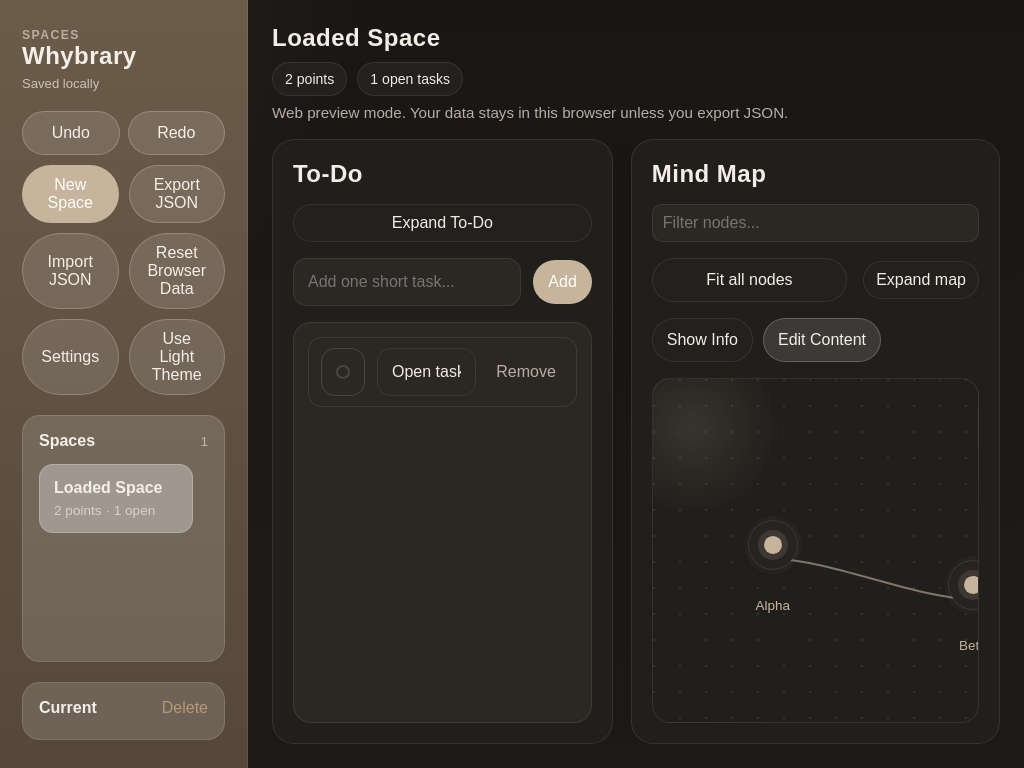
Scenario: App integration › undoes and redoes workspace changes
The width and height of the screenshot is (1024, 768).
Check: the heading "Loaded Space" is shown, box x1=272 y1=24 x2=440 y2=51
Click the button "New Space".
click(70, 194)  # box x1=22 y1=165 x2=118 y2=223
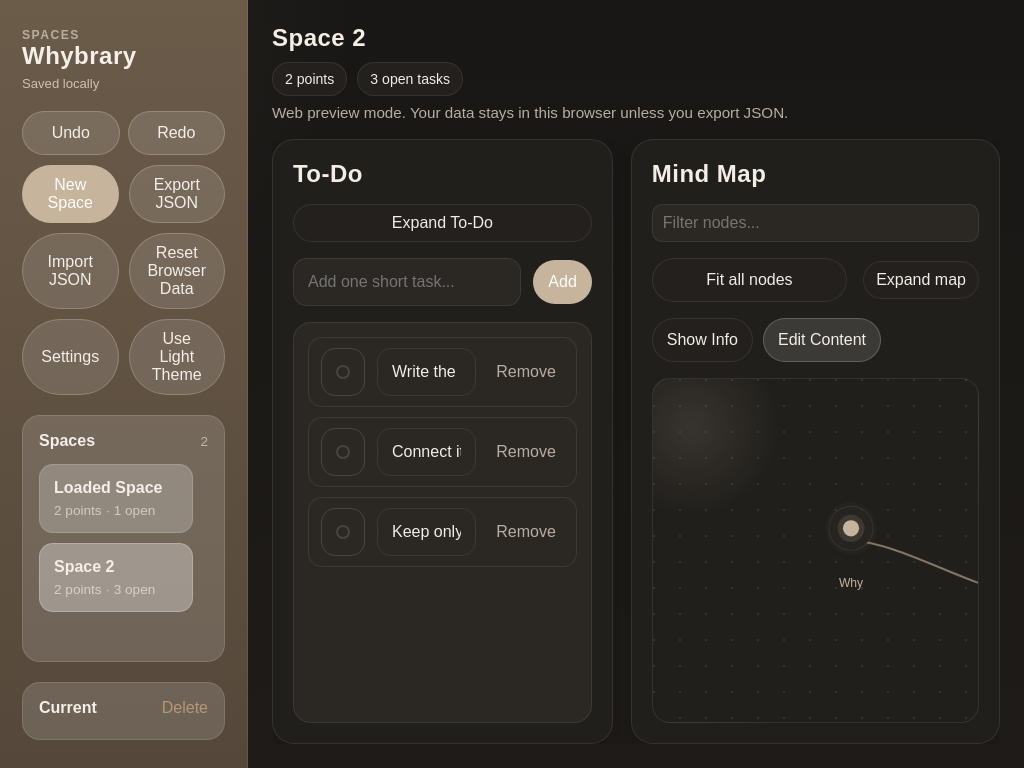
Check: the heading "Space 2" is shown, box x1=272 y1=24 x2=366 y2=51
Click the button "Undo".
click(71, 133)  # box x1=22 y1=111 x2=120 y2=155
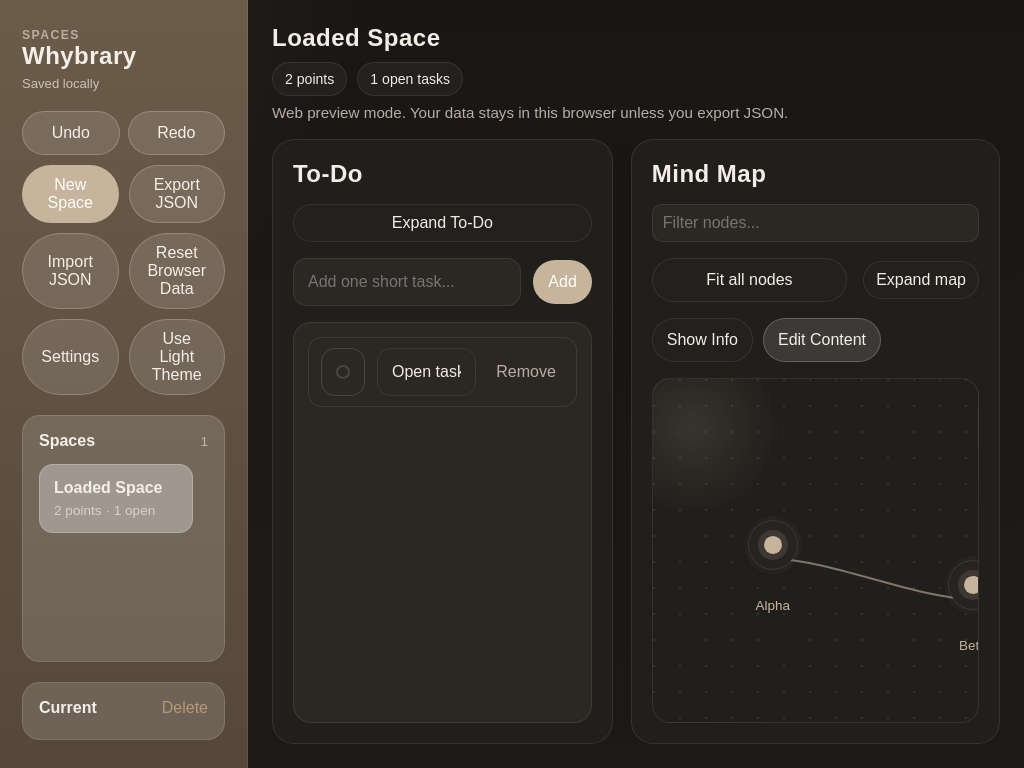
Check: the heading "Loaded Space" is shown, box x1=272 y1=24 x2=440 y2=51
Click the button "Redo".
click(176, 133)  # box x1=128 y1=111 x2=225 y2=155
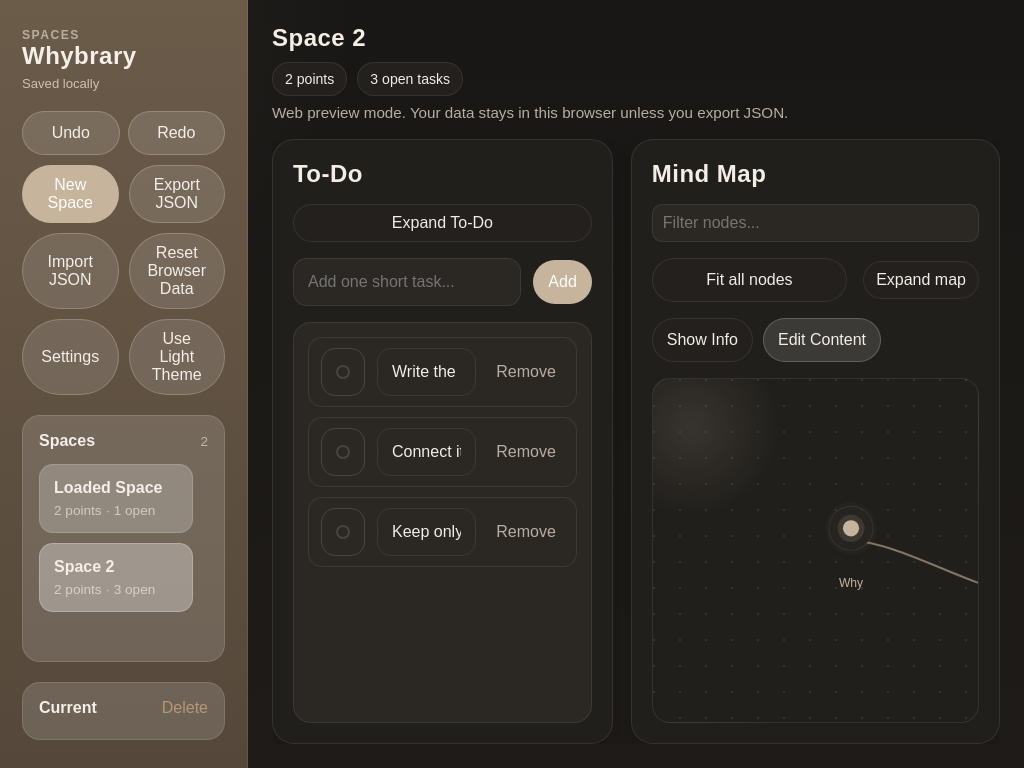
Check: the heading "Space 2" is shown, box x1=272 y1=24 x2=366 y2=51
